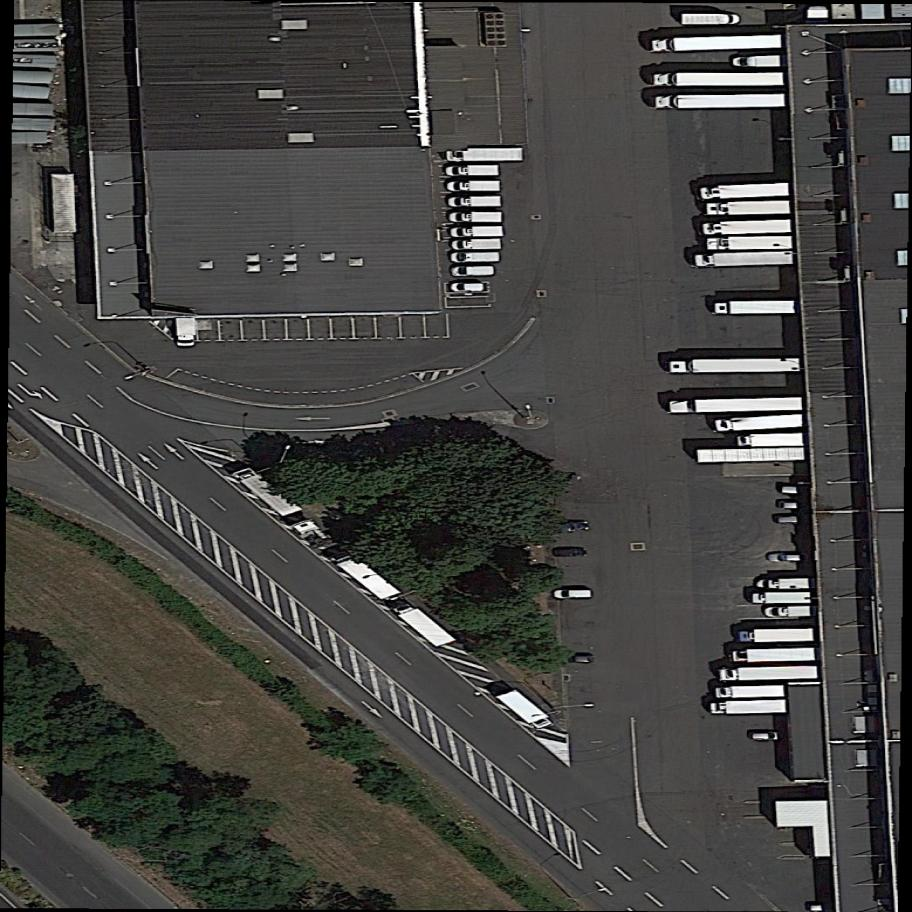large-vehicle: (325, 542, 404, 609), (229, 459, 304, 525), (388, 593, 459, 657), (494, 681, 558, 738), (288, 509, 348, 566), (647, 34, 783, 53), (668, 396, 803, 414), (652, 93, 786, 110), (652, 72, 784, 87), (670, 358, 801, 373), (691, 251, 794, 269), (695, 182, 791, 201), (713, 413, 804, 433), (702, 219, 792, 236), (718, 666, 818, 681), (729, 647, 817, 663), (710, 698, 788, 715), (734, 628, 816, 643), (703, 201, 790, 215), (706, 236, 792, 250), (445, 147, 523, 162), (714, 300, 796, 314), (737, 432, 804, 448), (715, 685, 786, 700), (750, 591, 812, 605), (452, 238, 503, 251), (445, 165, 500, 177), (681, 14, 741, 25), (732, 55, 782, 68), (176, 317, 197, 347), (451, 226, 503, 238), (764, 605, 815, 617), (756, 578, 810, 589), (448, 196, 502, 207), (450, 212, 502, 223), (450, 252, 501, 263), (447, 181, 501, 191)
small-vehicle: (551, 521, 592, 533), (553, 589, 592, 601), (453, 266, 494, 277), (769, 553, 806, 563), (551, 655, 597, 663), (551, 548, 590, 557), (775, 500, 811, 509), (452, 283, 487, 292), (773, 515, 812, 523), (748, 732, 780, 741), (777, 486, 811, 494)
